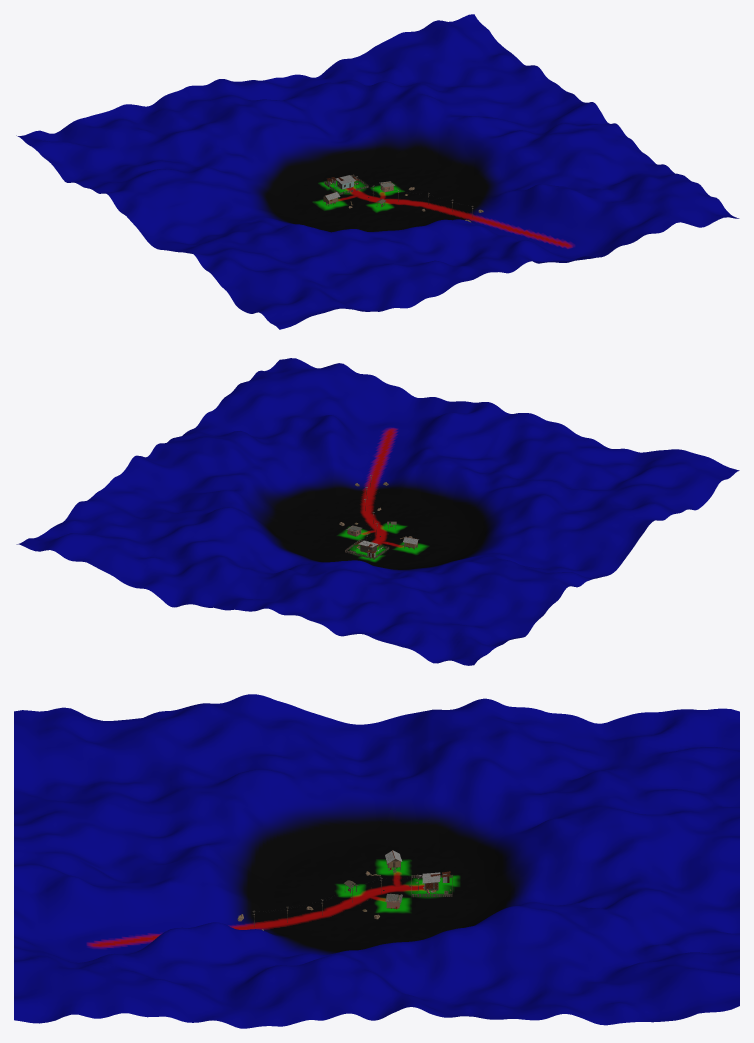
Rendered from world.glb.
3 views of the same model, one above another, from view 1: azimuth 30°, elevation 25°; view 2: azimuth 150°, elevation 25°; view 3: azimuth 270°, elevation 25° (orthographic). The views are drawn at different scales.
Parts seen in each view (by area): view 1: terrain; view 2: terrain; view 3: terrain.
Part boxes in pixels (x1=…): terrain: x1=16, y1=14, x2=739, y2=329; terrain: x1=16, y1=358, x2=739, y2=665; terrain: x1=14, y1=694, x2=739, y2=1028.
Size of the model in its own units: 240 by 19.9 by 240.
70 materials, 67 textured.
